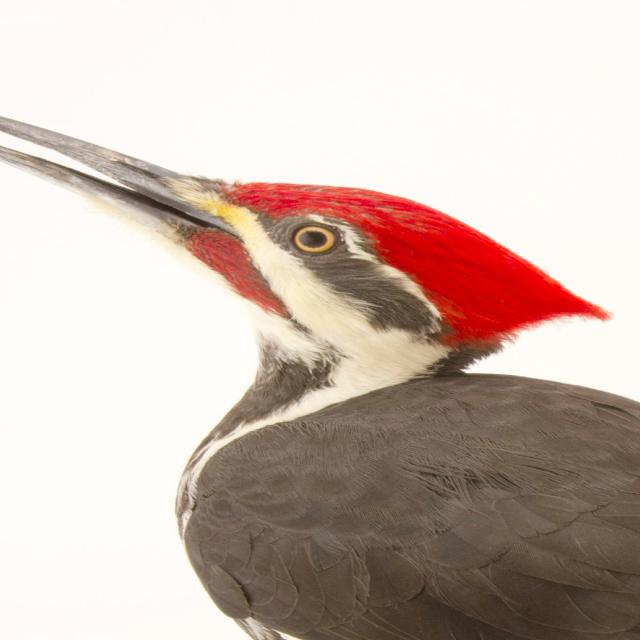Woodpecker: (4, 94, 640, 640)
